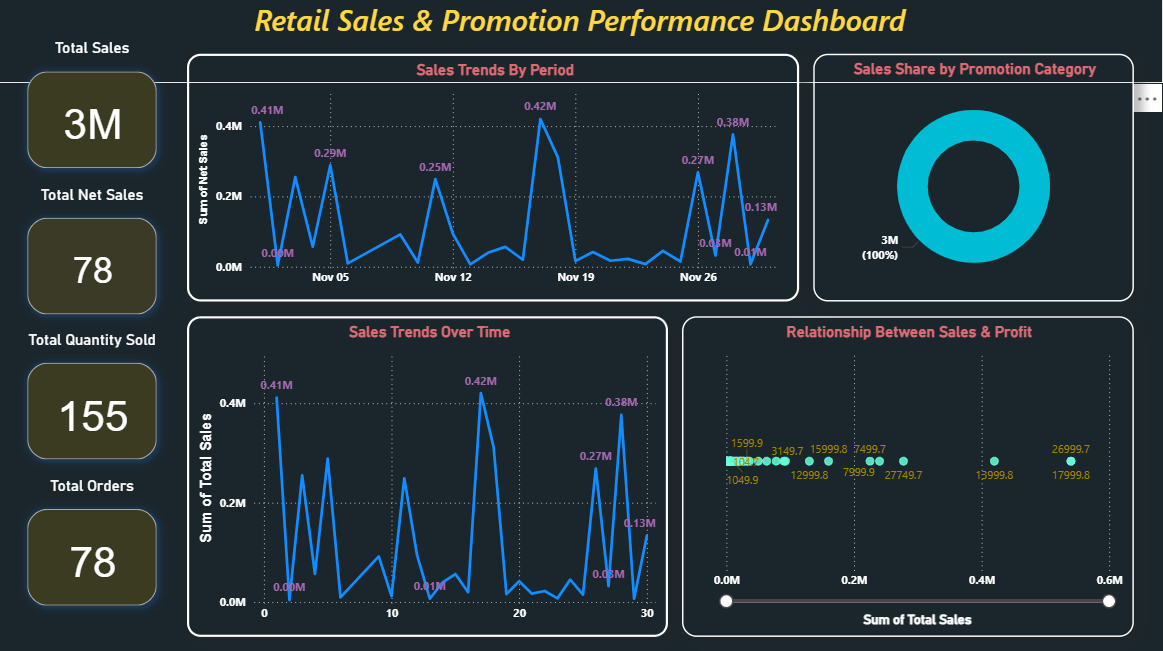

The page's visual inventory and layout, read from the dashboard file:
{"tool":"powerbi","page":{"name":"Dashboard","canvas":[1280,720],"ordinal":1},"visuals":[{"type":"textbox","box":[0,0,1280,96],"z":0},{"type":"cardVisual","title":"Total Sales","fields":{"Data":["Sum(Fact Table.Total Sales)"]},"box":[16,48,176,160],"z":1000},{"type":"cardVisual","title":"Total Orders","fields":{"Data":["Fact Table.Total Orders"]},"box":[16,528,176,160],"z":2000},{"type":"cardVisual","title":"Total Net Sales","fields":{"Data":["CountNonNull(Fact Table.Net Sales)"]},"box":[16,208,176,160],"z":3000},{"type":"cardVisual","title":"Total Quantity Sold","fields":{"Data":["Sum(Fact Table.Units Sold)"]},"box":[16,368,176,160],"z":4000},{"type":"lineChart","title":"Sales Trends Over Time","fields":{"Category":["Fact Table.Date (dd/mm/yyyy).Variation.Date Hierarchy.Year","Fact Table.Date (dd/mm/yyyy).Variation.Date Hierarchy.Quarter","Fact Table.Date (dd/mm/yyyy).Variation.Date Hierarchy.Month","Fact Table.Date (dd/mm/yyyy).Variation.Date Hierarchy.Day"],"Y":["Sum(Fact Table.Total Sales)"]},"box":[208,352,528,352],"z":7000},{"type":"scatterChart","title":"Relationship Between Sales & Profit","fields":{"X":["Sum(Fact Table.Total Sales)"],"Category":["Fact Table.Profit"]},"box":[752,352,496,352],"z":8000},{"type":"donutChart","title":"Sales Share by Promotion Category","fields":{"Category":["Dim Promotion.Promotion Name"],"Y":["Sum(Fact Table.Total Sales)"]},"box":[896,64,352,272],"z":9000},{"type":"lineChart","title":"Sales Trends By Period","fields":{"Category":["Fact Table.Date (dd/mm/yyyy).Variation.Date Hierarchy.Year","Fact Table.Date (dd/mm/yyyy).Variation.Date Hierarchy.Quarter","Fact Table.Date (dd/mm/yyyy).Variation.Date Hierarchy.Month","Fact Table.Date (dd/mm/yyyy).Variation.Date Hierarchy.Day"],"Y":["Sum(Fact Table.Net Sales)"]},"box":[208,64,672,272],"z":9001}]}

Visuals, with their boxes in screenshot pixels (x1, y1, x2, y2), scaled from the page's 1280x720 canvas onto the 1163x651 screenshot:
textbox: 0,0,1162,87
"Total Sales" cardVisual: 15,43,174,188
"Total Orders" cardVisual: 15,477,174,622
"Total Net Sales" cardVisual: 15,188,174,333
"Total Quantity Sold" cardVisual: 15,333,174,477
"Sales Trends Over Time" lineChart: 189,318,669,637
"Relationship Between Sales & Profit" scatterChart: 683,318,1134,637
"Sales Share by Promotion Category" donutChart: 814,58,1134,304
"Sales Trends By Period" lineChart: 189,58,800,304
